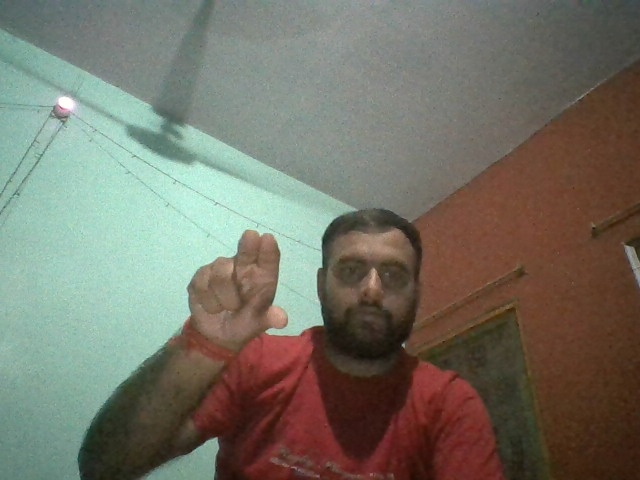no: (187, 229, 289, 329)
